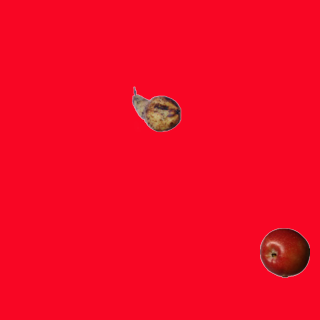Apple Braeburn: (259, 227, 309, 277)
Pear Abate: (131, 84, 181, 134)
